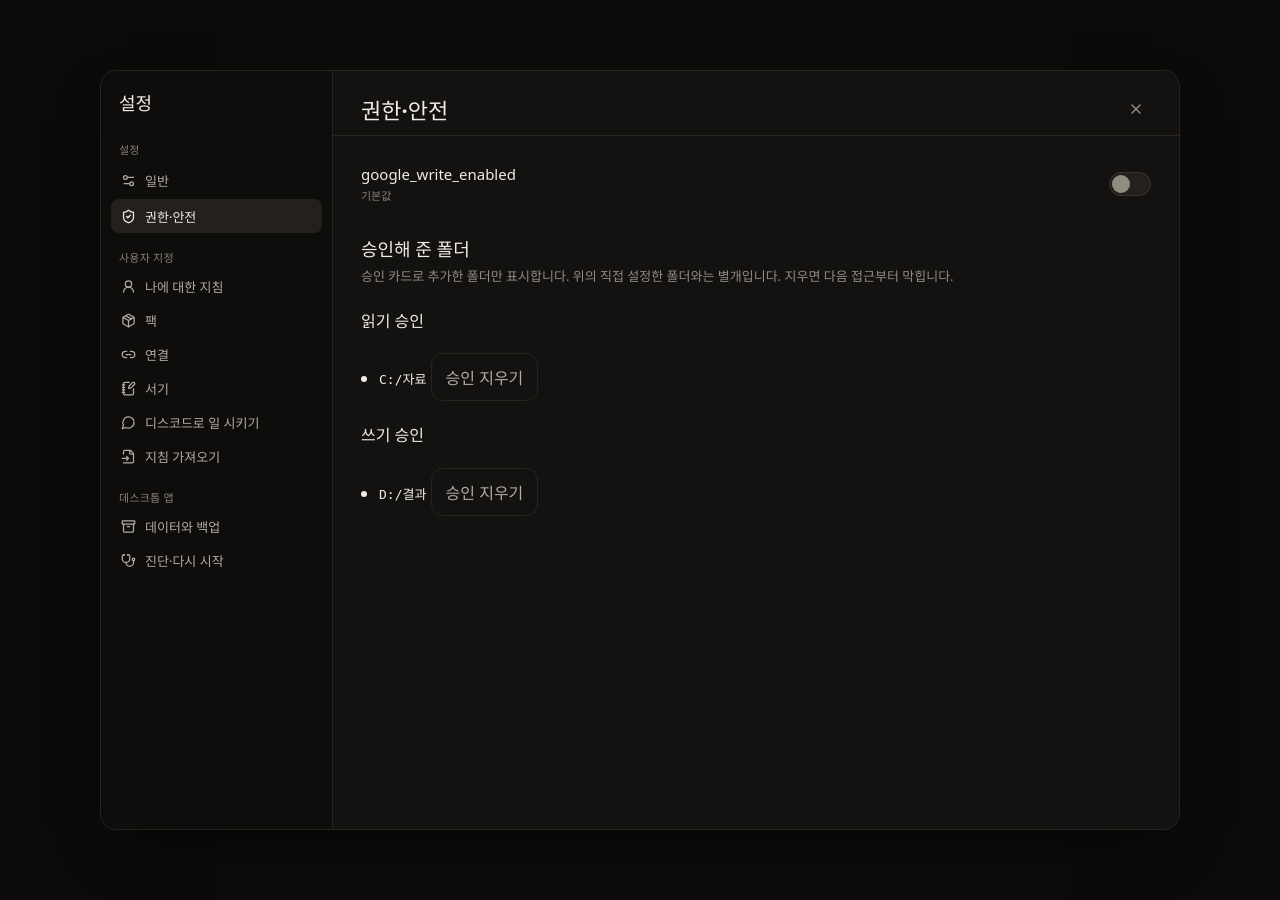
Google 권한 연결 실패를 설정 저장 실패로 표시하지 않는다
Click the switch at (1130, 184), box [1109,172,1151,196]
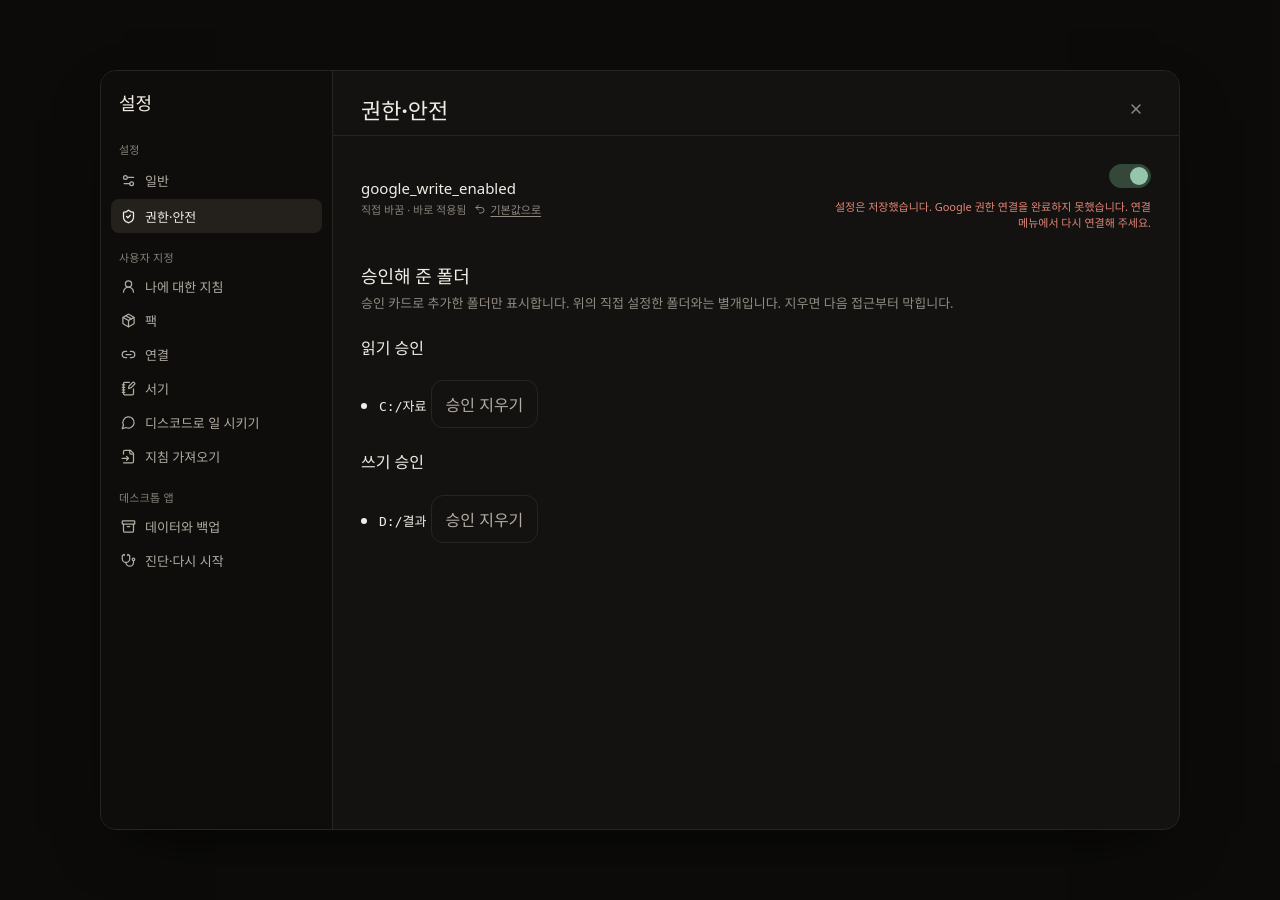
Result: the text "설정은 저장" is shown at [835,199,1151,230]
Result: the text "권한 연결" is shown at [835,199,1151,230]
